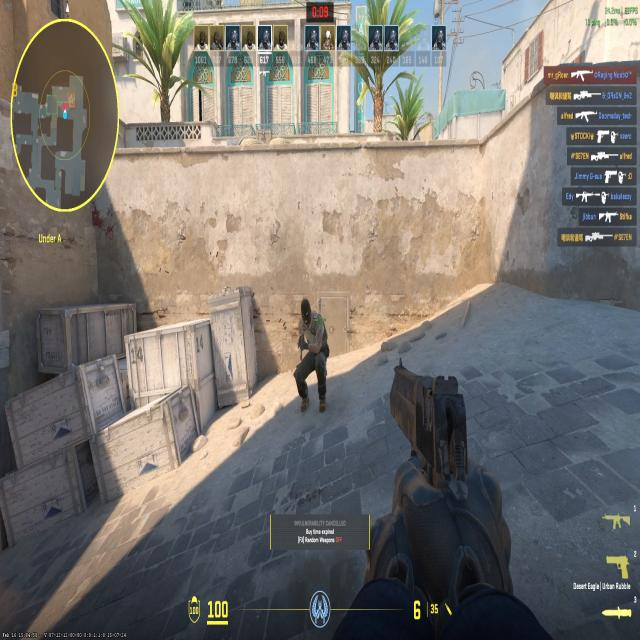player: (284, 297, 338, 416)
